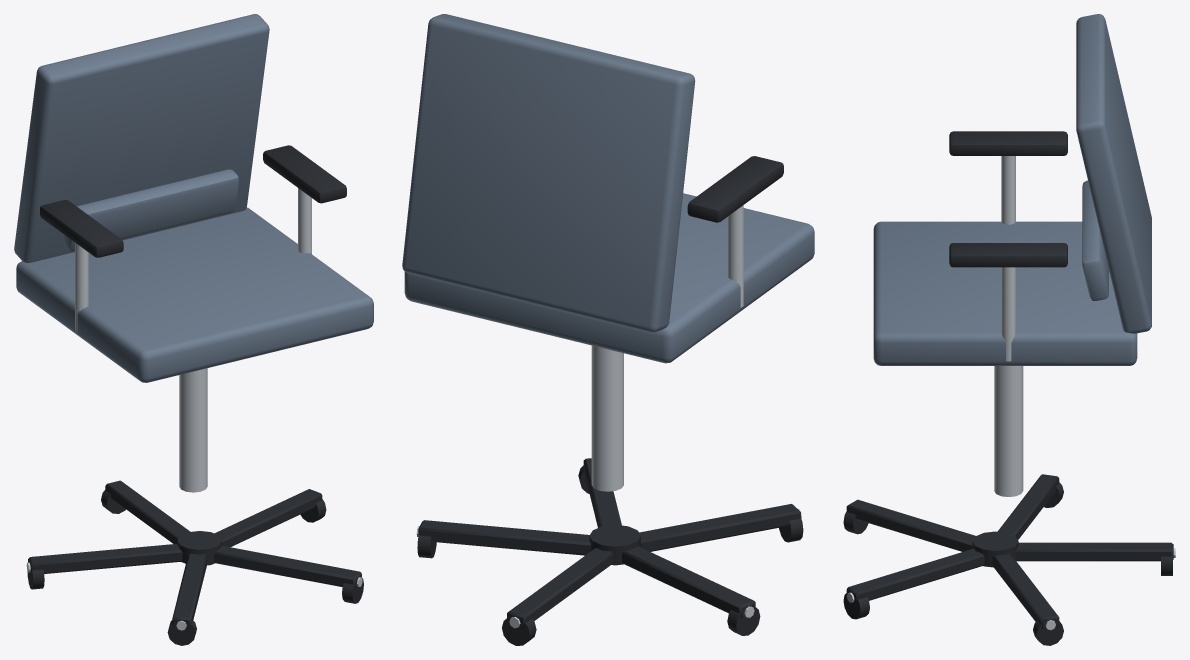
The model's file is task-chair.glb.
3 renders of one model, left to right at view 1: azimuth 30°, elevation 25°; view 2: azimuth 150°, elevation 25°; view 3: azimuth 270°, elevation 25°, orthographic. The views are drawn at different scales.
Parts seen in each view (by area): view 1: task-chair; view 2: task-chair; view 3: task-chair.
Boxes of the visible parts, x1,y1,x2,y2 form: task-chair: (14,14,373,645); task-chair: (402,14,814,645); task-chair: (843,14,1175,645).
Size of the model in its own units: 0.5253 by 0.8487 by 0.5036.
